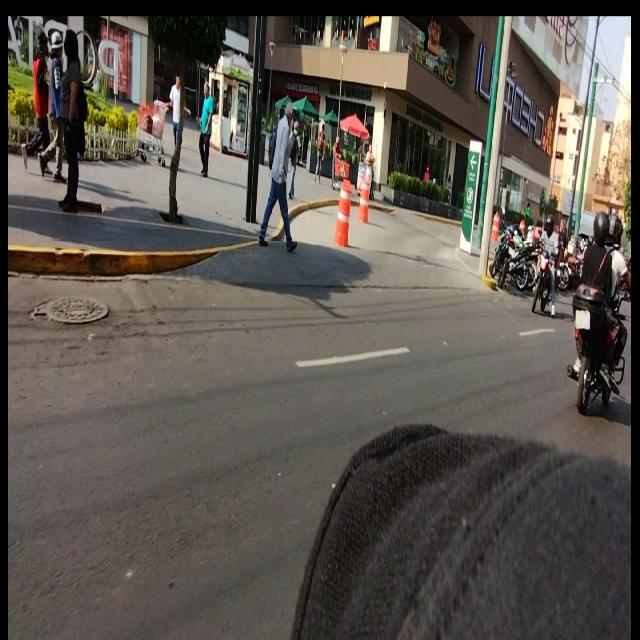adult: (259, 102, 297, 249), (582, 215, 612, 381), (22, 31, 52, 176), (59, 29, 82, 211), (606, 212, 629, 394), (39, 32, 63, 180), (541, 213, 558, 317), (167, 75, 190, 144), (198, 80, 214, 177), (289, 120, 301, 198), (314, 122, 326, 184)
